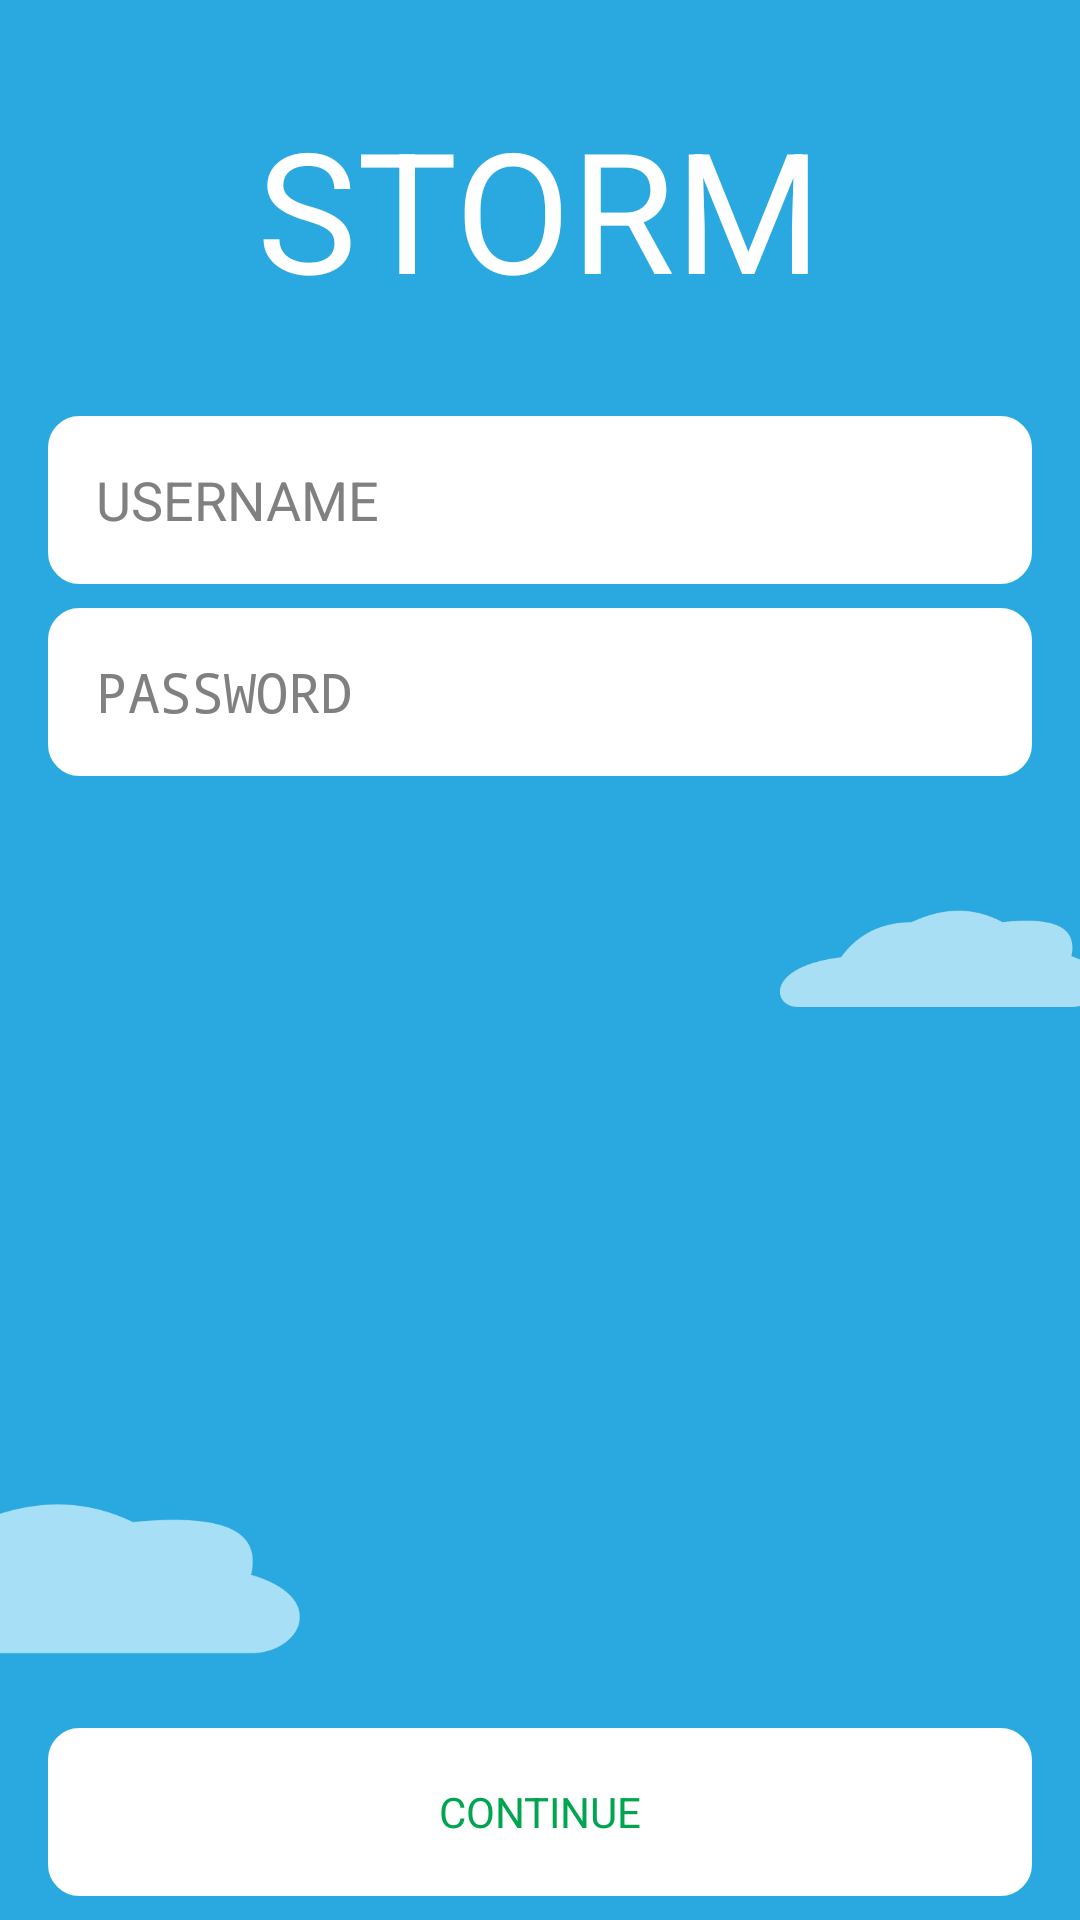

Named icons in this screenshot (1080px×1920px) and their bounding boxes, (x1, y1, x2, y2):
left cloud: (0, 1504, 300, 1654)
right cloud: (780, 910, 1080, 1007)
